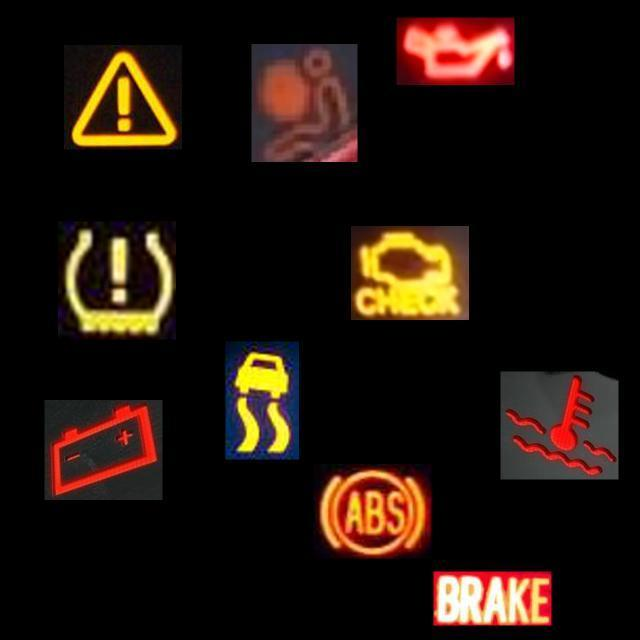Central Warning lamp: (64, 44, 182, 150)
Engine cooling system: (501, 372, 618, 479)
